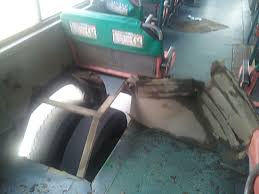seat: (120, 8, 176, 75)
